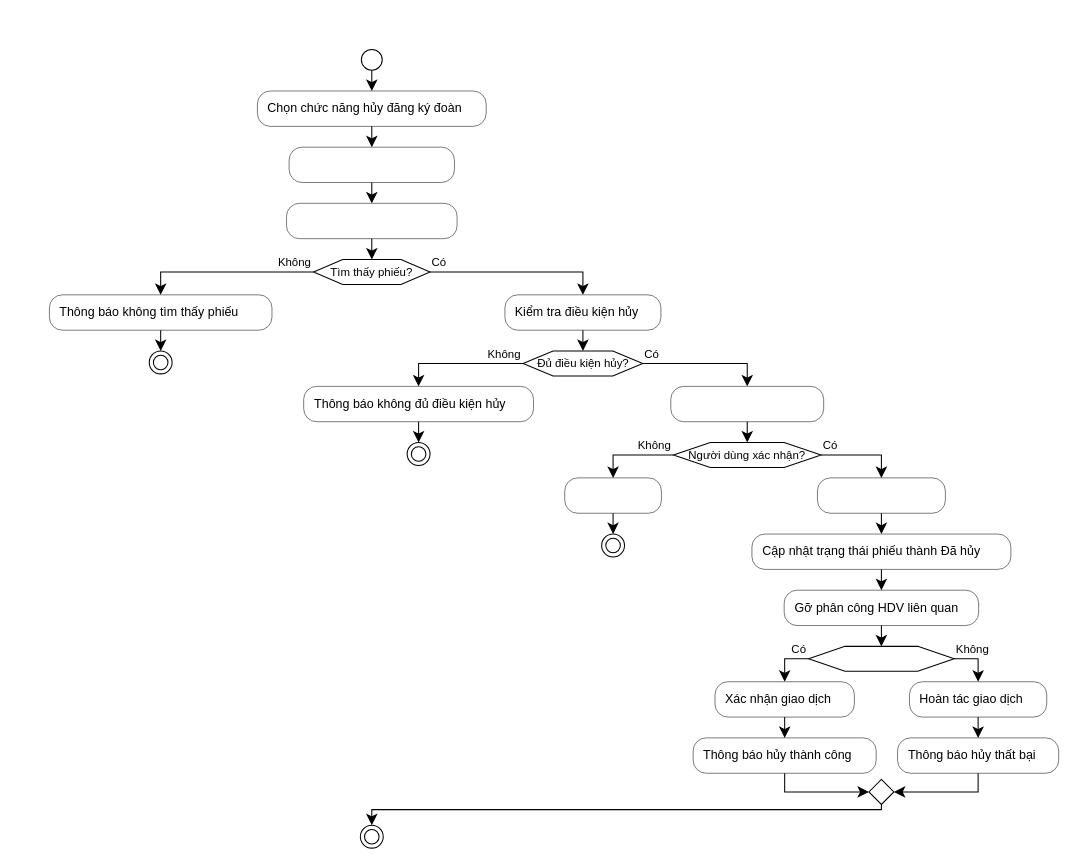
This 1076x866 diagram has some shape labels left out. The shapes that lost their labels are listed below. From the top down, each one's centre as x and y in pixels, then its label:
point (371, 164): Nhập mã phiếu đăng ký
point (371, 220): Tìm phiếu đăng ký đoàn
point (746, 404): Xác nhận hủy đăng ký
point (612, 495): Hủy thao tác
point (881, 495): Bắt đầu giao dịch
point (881, 658): Cập nhật thành công?
